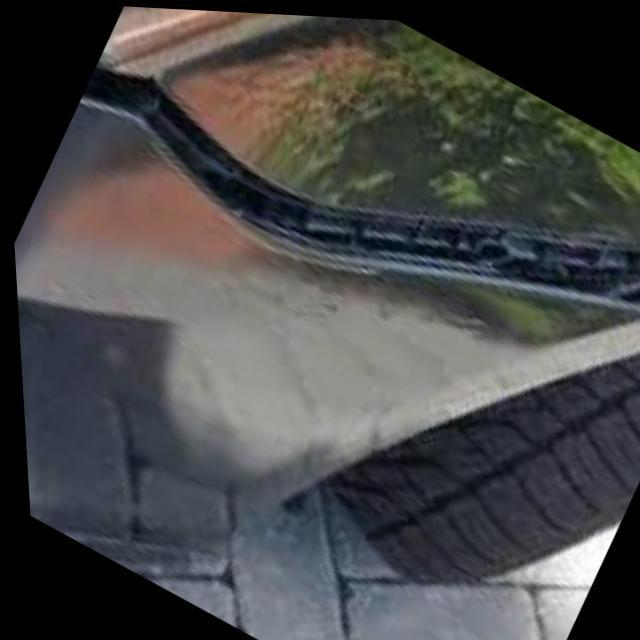dislocated part: (72, 55, 640, 323)
